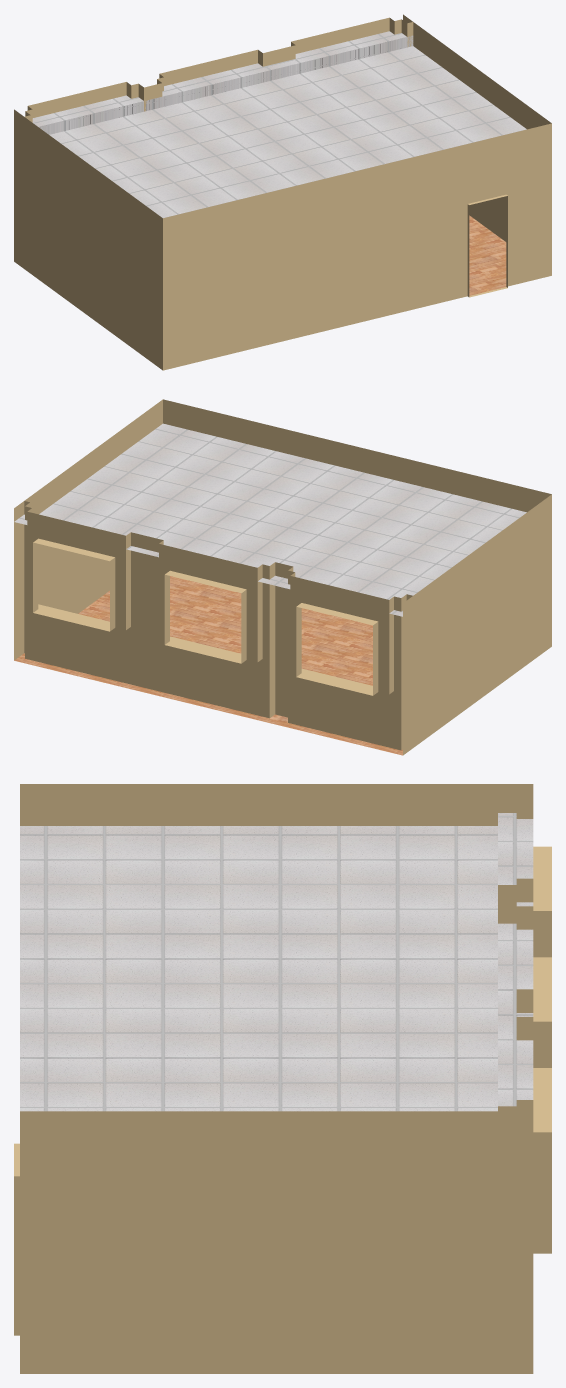
The model's file is room3.glb.
3 views of the same model, one above another, from view 1: azimuth 30°, elevation 25°; view 2: azimuth 150°, elevation 25°; view 3: azimuth 270°, elevation 25° (orthographic). The views are drawn at different scales.
Visible parts, largest first — view 1: 4et.004; view 2: 4et.004; view 3: 4et.004.
Part boxes in pixels (x1,y1,x2,y2): 4et.004: (14,14,551,370); 4et.004: (14,399,551,755); 4et.004: (14,784,551,1373).
Bounding box in the file's own units: 8.82 × 3.3 × 6.13.
3 materials, 2 textured.
